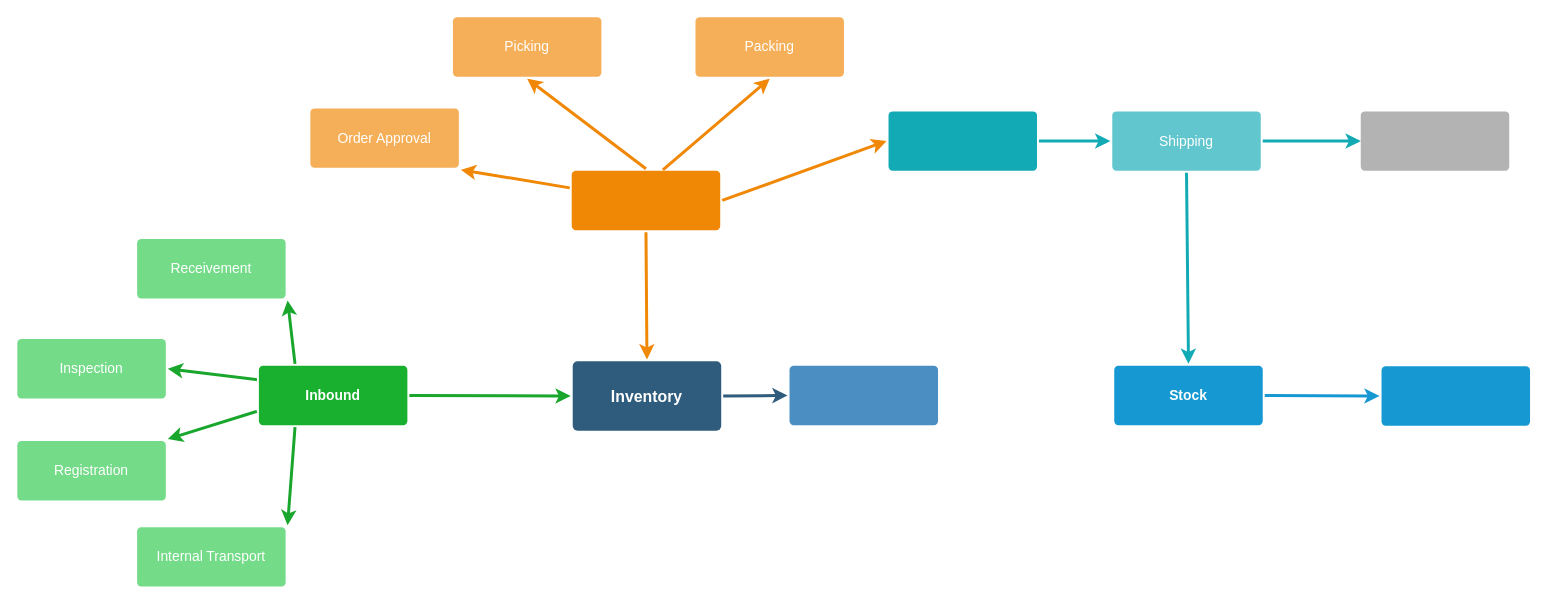
Some shapes in this 1546 by 603 pixel diagram are drawn without their labels. The centre of each missing label's shape, as x and y in pixels:
Anywhere: (x=1434, y=140)
Order: (x=645, y=200)
Outbound: (x=962, y=140)
Spot Locator: (x=863, y=395)
Stock Management: (x=1455, y=395)
